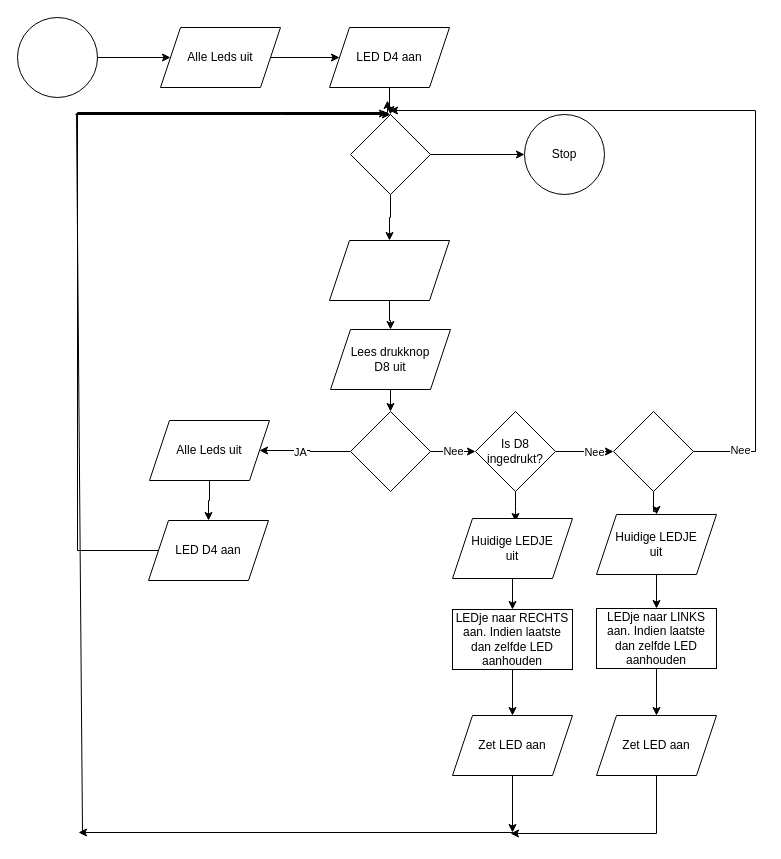
Image size: 781x859. Some labels were removed from this diagram. Each missing label, with the centre of its shape:
Beide knoppen ingedrukt?: the point at 390,451
Is D0 ingedrukt?: the point at 653,451
Lees drukknop D0 uit: the point at 389,270
Start: the point at 57,57
While True: the point at 390,154
